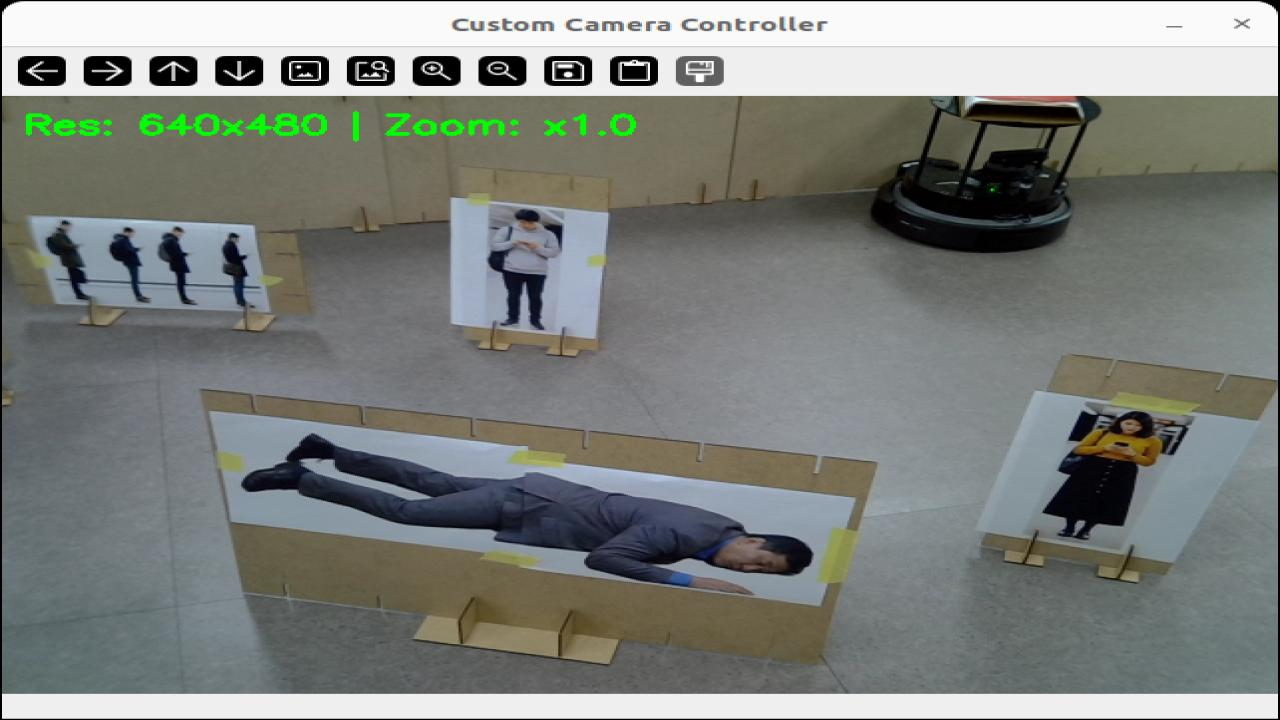Crowd: (1043, 411, 1160, 539), (490, 209, 558, 328), (108, 228, 148, 300), (48, 220, 84, 299), (161, 228, 193, 303), (223, 233, 247, 305)
Patient: (241, 433, 811, 594)
